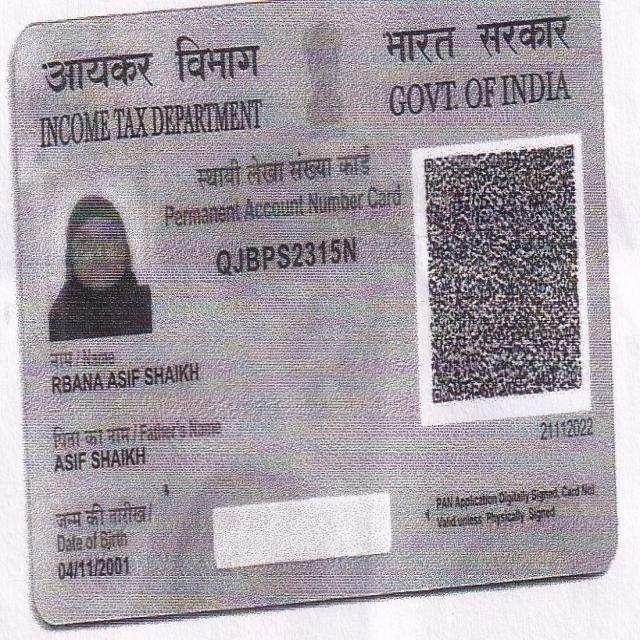pan_card: (10, 0, 624, 630)
